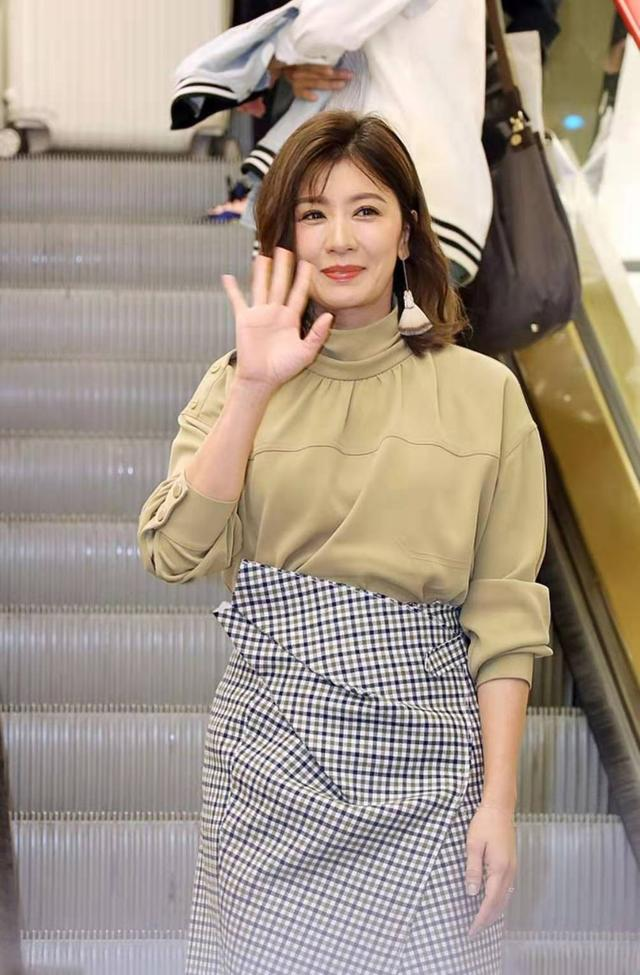person: (137, 111, 565, 975)
